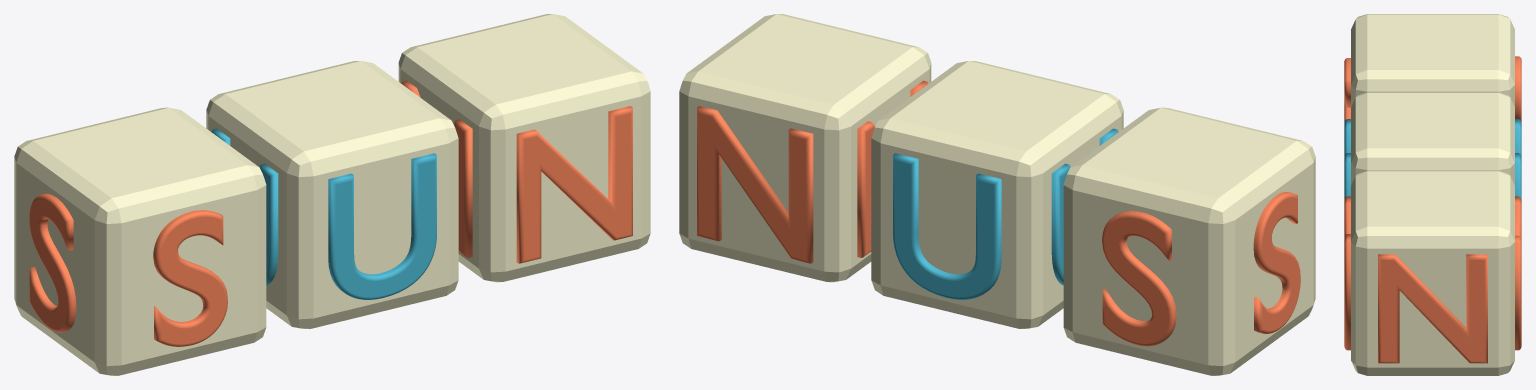
File: sun (1).fbx
3 renders of one model, left to right at view 1: azimuth 30°, elevation 25°; view 2: azimuth 150°, elevation 25°; view 3: azimuth 270°, elevation 25°, orthographic. The views are drawn at different scales.
Visible parts, largest first — view 1: Sun; view 2: Sun; view 3: Sun.
Boxes of the visible parts, x1,y1,x2,y2 form: Sun: (14,14,650,375); Sun: (679,14,1315,375); Sun: (1344,14,1521,375).
Size of the model in its own units: 669 by 200 by 216.
